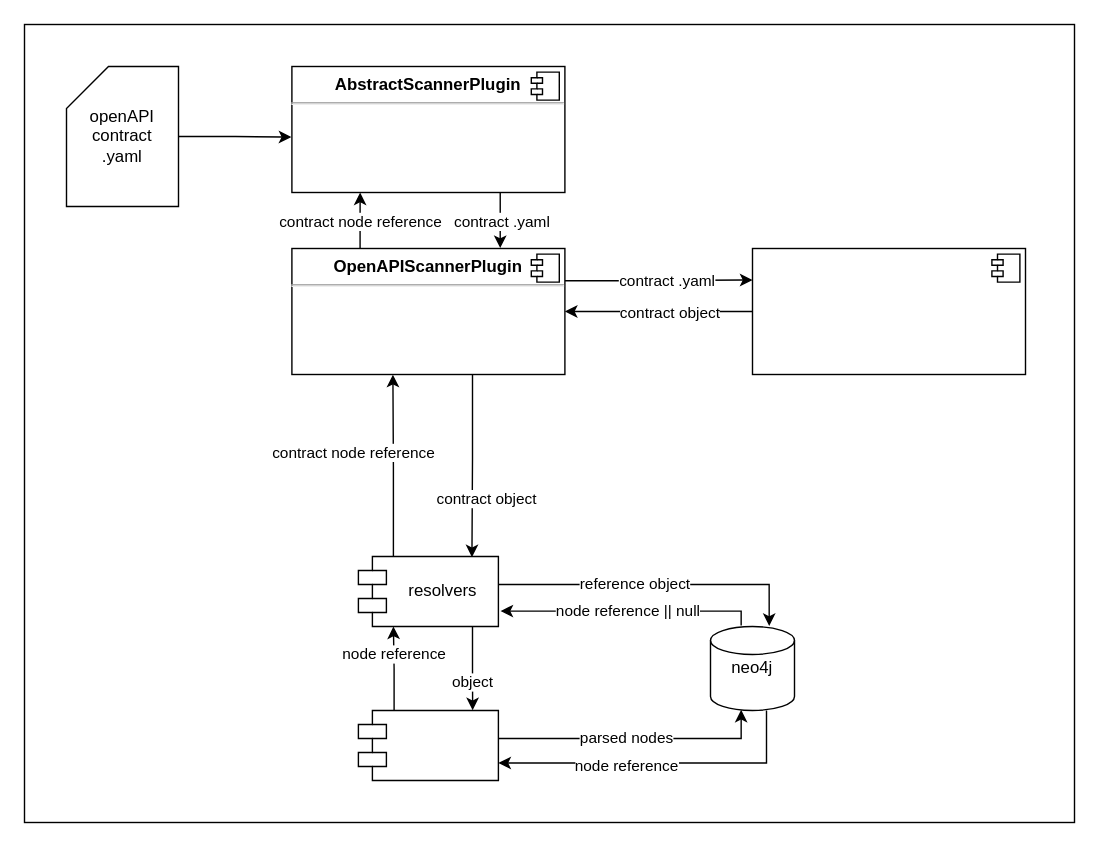
This 1099x847 diagram has some shape labels left out. The shapes that lost their labels are listed below. From the top down, each one's box as (x1, y1, x2, y2) in pixels, then its label:
(751, 247, 1026, 374): OpenAPIV3Parser (swagger-parser)
(357, 709, 498, 780): parsers
